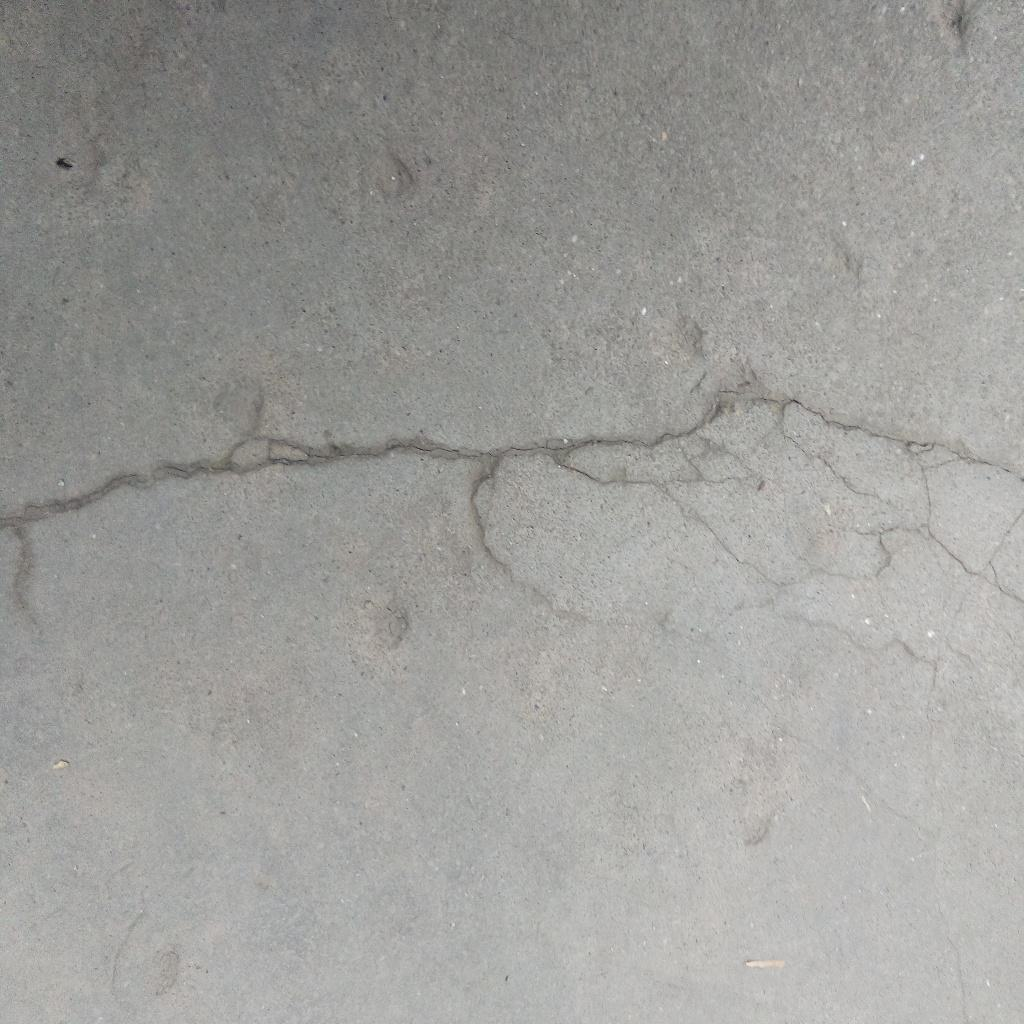Crack: (1, 398, 1024, 667)
